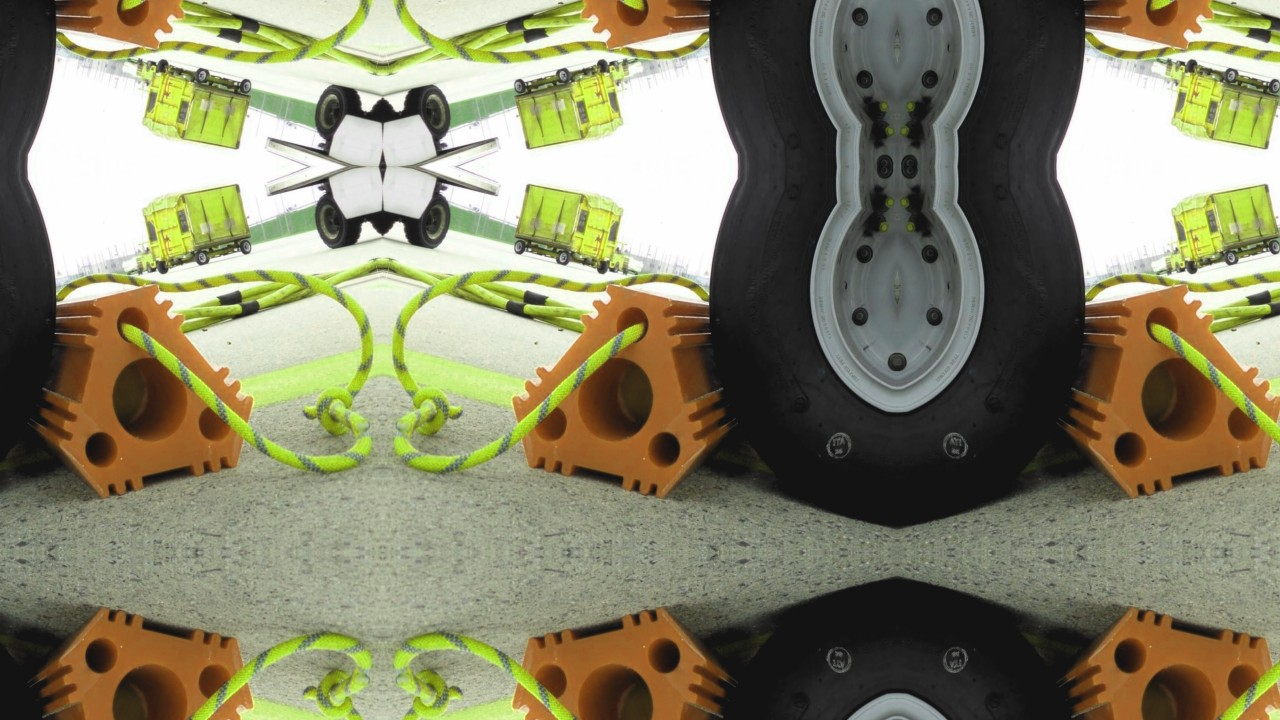chock: (497, 263, 769, 515), (0, 263, 268, 515), (1026, 263, 1280, 515), (497, 591, 769, 720), (0, 591, 268, 720), (1026, 591, 1280, 720), (497, 0, 769, 70), (0, 0, 268, 70), (1026, 0, 1280, 70)
wheel: (660, 177, 897, 521), (898, 177, 1135, 521), (660, 0, 897, 156), (898, 0, 1135, 156), (0, 177, 105, 521), (660, 585, 897, 720), (898, 585, 1135, 720), (0, 0, 105, 156), (0, 585, 105, 720), (310, 82, 363, 143), (402, 82, 455, 143), (310, 190, 363, 251), (402, 190, 455, 251), (364, 95, 383, 156), (364, 177, 383, 238), (383, 95, 401, 156), (383, 177, 401, 238), (193, 67, 209, 84), (556, 67, 572, 84), (1223, 67, 1239, 84), (193, 249, 209, 266), (556, 249, 572, 266), (1223, 249, 1239, 266), (155, 59, 169, 75), (238, 78, 252, 94), (596, 59, 610, 75), (513, 78, 527, 94), (1185, 59, 1199, 75), (155, 258, 169, 274), (238, 239, 252, 255), (596, 258, 610, 274), (513, 239, 527, 255), (1185, 258, 1199, 274), (1268, 78, 1280, 94), (1268, 239, 1280, 255), (143, 59, 154, 73), (611, 59, 622, 73), (1173, 59, 1184, 73), (143, 260, 154, 274), (611, 260, 622, 274), (1173, 260, 1184, 274)
